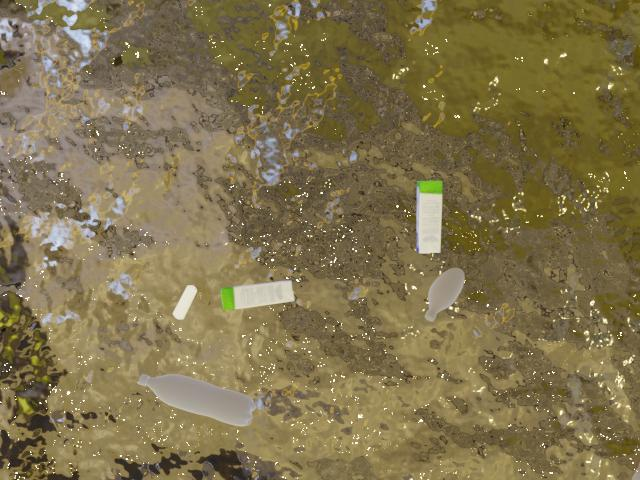Metal: (149, 264, 206, 327)
Plastic: (126, 359, 270, 444), (407, 271, 494, 331)
Trash: (219, 255, 302, 322), (395, 171, 453, 259)
